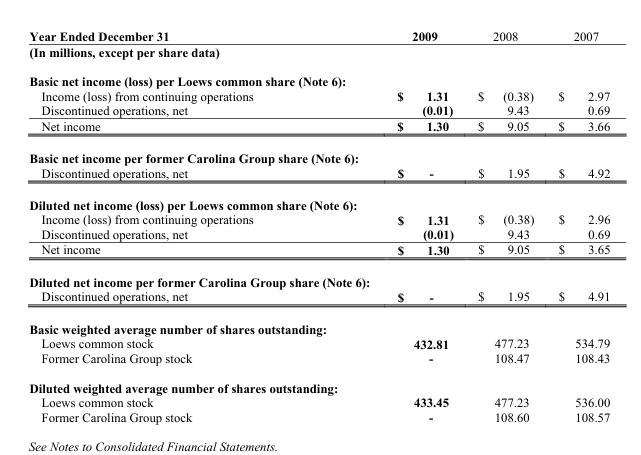table: (28, 28, 609, 423)
table column: (28, 28, 324, 423), (324, 28, 464, 423), (464, 28, 545, 423), (545, 28, 609, 423)
table column header: (28, 28, 609, 43)
table projected row header: (28, 141, 609, 165), (28, 43, 609, 66), (28, 188, 609, 211), (28, 265, 609, 288), (28, 312, 609, 335), (28, 66, 609, 88), (28, 372, 609, 394)
table row: (28, 117, 609, 141), (28, 141, 609, 165), (28, 241, 609, 265), (28, 288, 609, 312), (28, 43, 609, 66), (28, 165, 609, 188), (28, 188, 609, 211), (28, 265, 609, 288), (28, 312, 609, 335), (28, 66, 609, 88), (28, 350, 609, 372), (28, 372, 609, 394), (28, 28, 609, 43), (28, 102, 609, 117), (28, 211, 609, 226), (28, 226, 609, 241), (28, 335, 609, 350), (28, 394, 609, 409), (28, 88, 609, 102), (28, 409, 609, 423)
